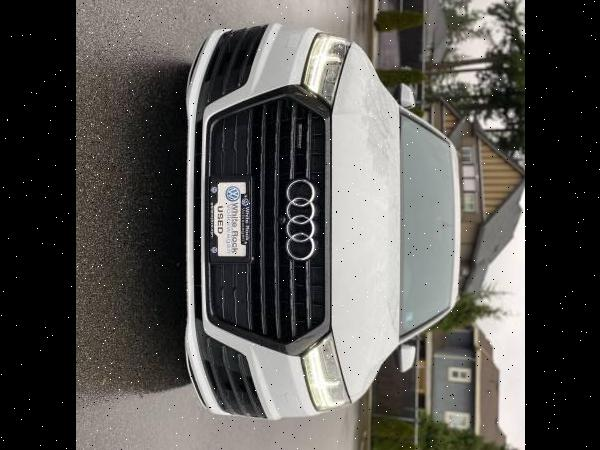Front_Bumper: (184, 22, 317, 123)
Front_Windshield: (401, 109, 459, 342)
Grille: (186, 88, 332, 361)
Hood: (328, 45, 400, 400)
Left_Headlight: (304, 34, 353, 111)
Left_Mirror: (396, 346, 417, 377)
Right_Headlight: (299, 327, 353, 410)
Right_Mirror: (395, 82, 415, 107)
Wheel: (188, 313, 317, 422)
